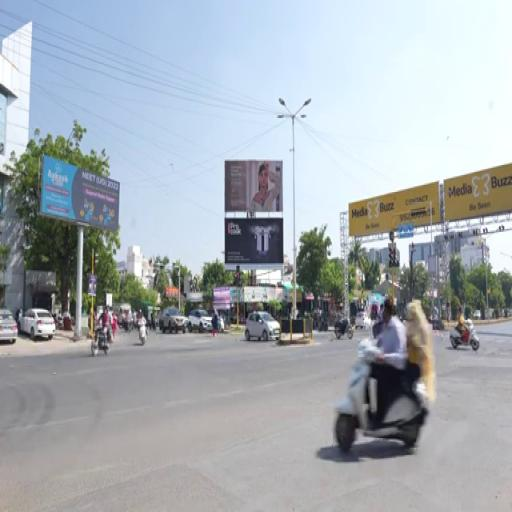Car: (20, 309, 55, 339), (245, 312, 280, 341), (160, 308, 187, 332), (0, 309, 18, 344), (188, 309, 211, 332), (355, 312, 371, 329), (219, 316, 224, 332)
